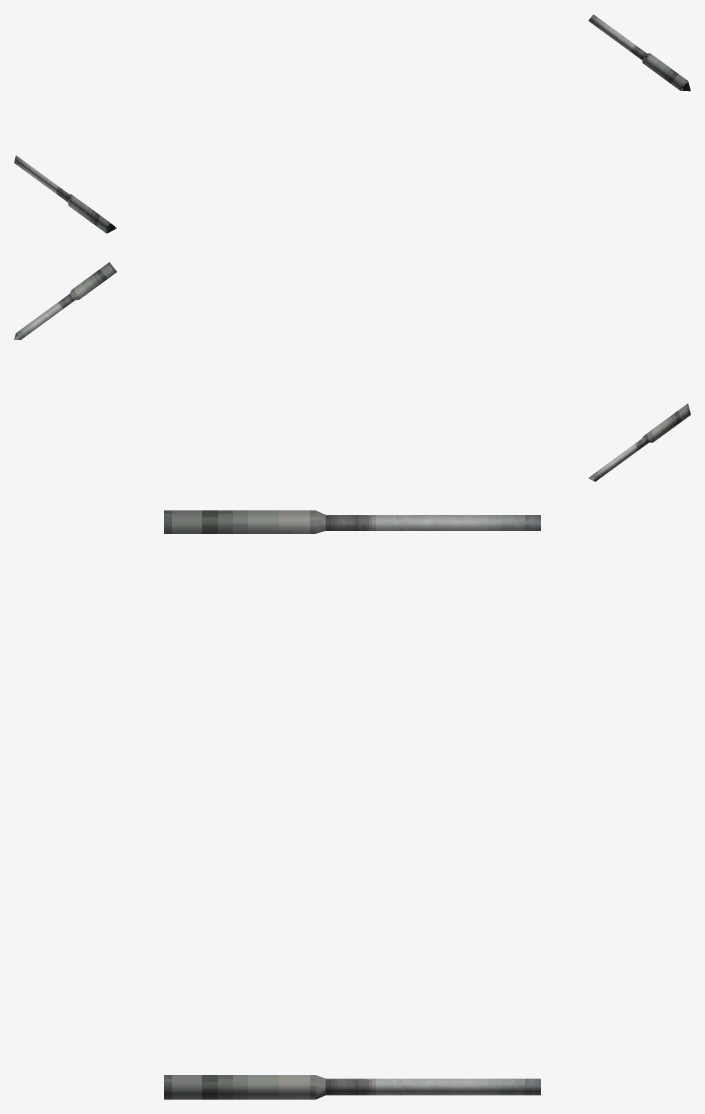
File: hutt_fighter_light_weapon_s05_l2.fbx
The picture shows the model from 3 angles, top to bottom: view 1: azimuth 30°, elevation 25°; view 2: azimuth 150°, elevation 25°; view 3: azimuth 270°, elevation 25°; orthographic projection. The views are drawn at different scales.
Parts seen in each view (by area): view 1: mesh_node; view 2: mesh_node; view 3: mesh_node.
Boxes of the visible parts, x1,y1,x2,y2 form: mesh_node: [14, 14, 690, 233]; mesh_node: [14, 262, 690, 481]; mesh_node: [164, 510, 540, 1099].
Size of the model in its own units: 3.37 by 0.061 by 0.9416.
1 material, 1 textured.
